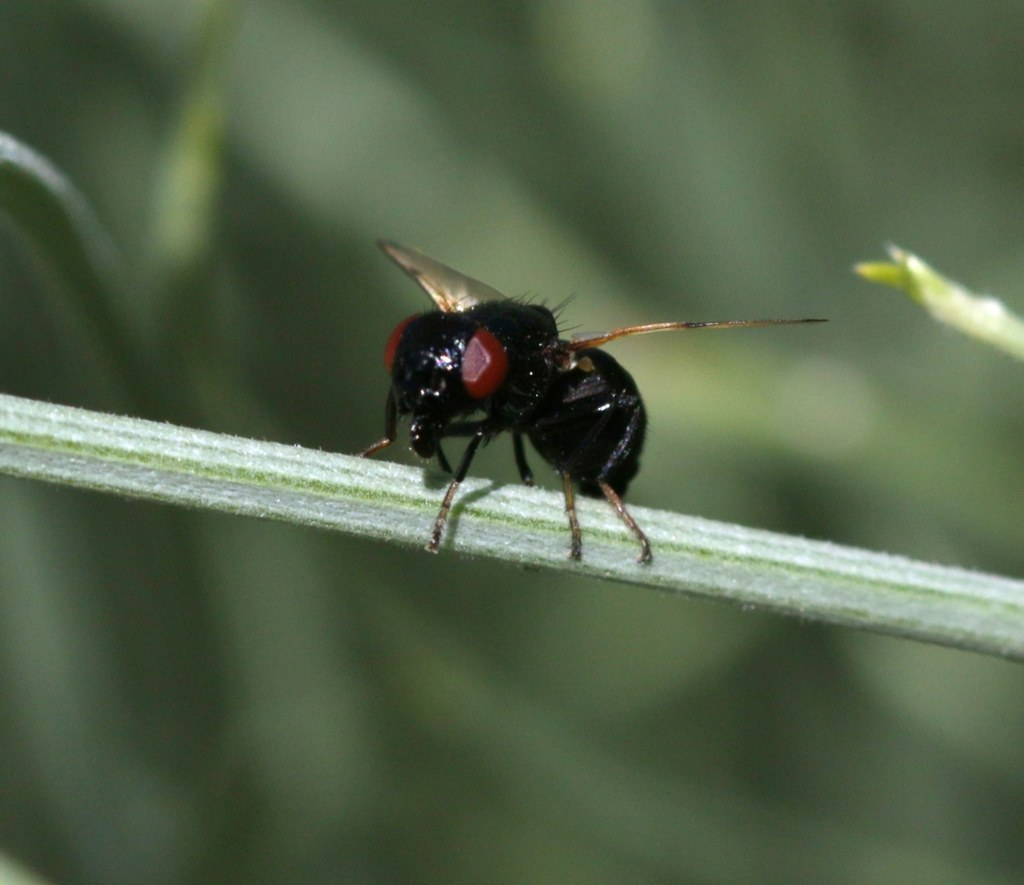insect: (353, 239, 835, 578)
